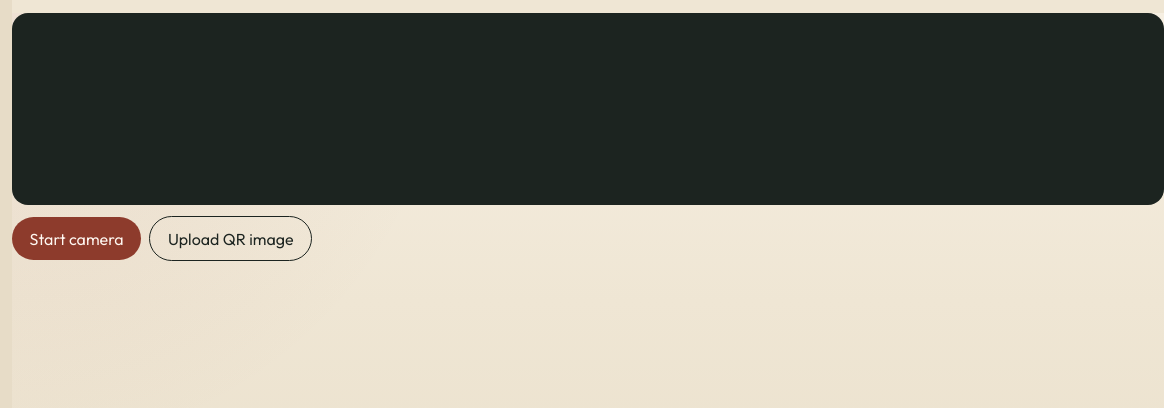
Test case: pages and forms › explains a camera failure and an invalid QR image
Later steps or results of the test are not shown.
Click the button "Start camera".
click(77, 238)  # box [12, 217, 141, 260]
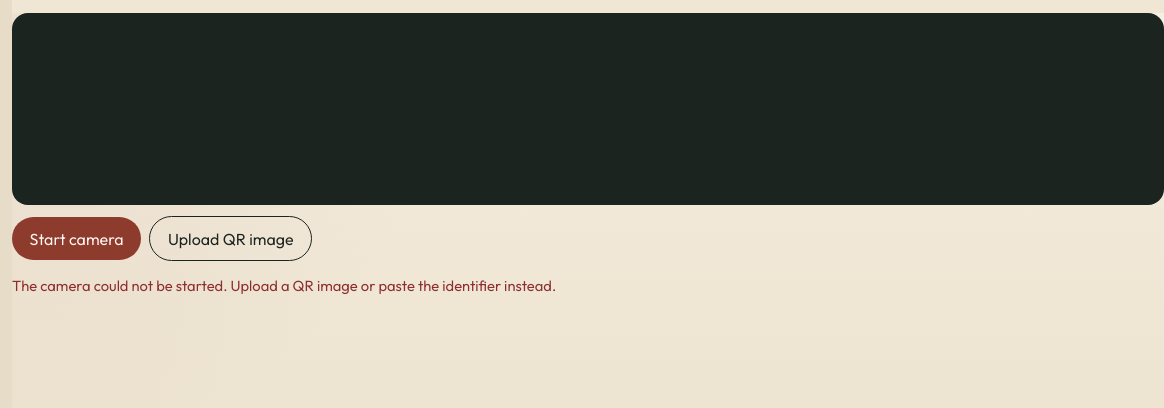
Check: the text "camera could not be started" is shown, box [12, 276, 556, 295]
